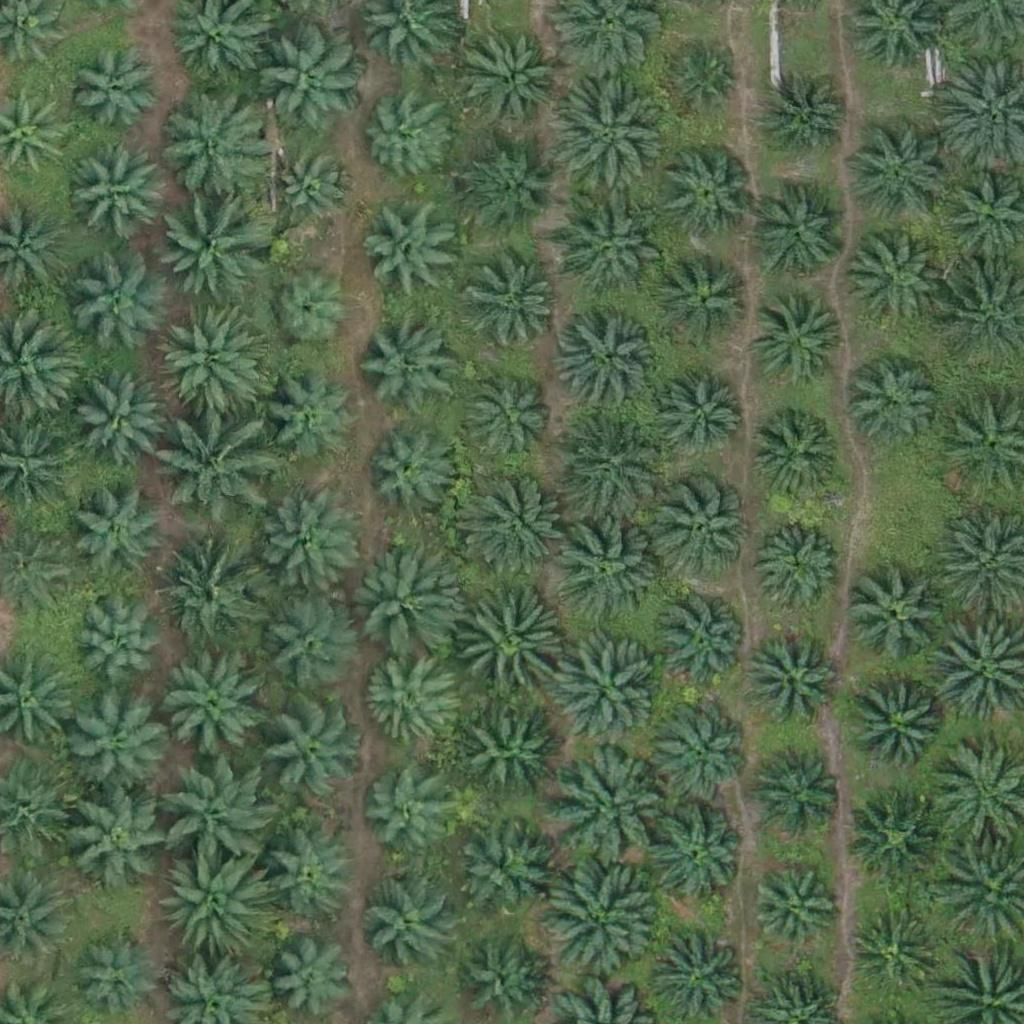Kelapa_Sawit: (456, 465, 569, 579), (548, 84, 661, 198), (550, 513, 663, 627), (156, 191, 269, 304), (153, 304, 266, 417), (553, 407, 666, 520), (542, 863, 655, 976), (555, 747, 668, 860), (546, 633, 659, 746), (160, 756, 273, 869), (160, 414, 272, 528), (150, 88, 262, 201), (450, 592, 562, 705), (443, 815, 555, 928), (157, 849, 269, 962), (65, 145, 165, 246), (70, 254, 170, 355), (74, 371, 174, 472), (67, 483, 167, 584), (158, 547, 258, 648), (253, 495, 353, 596), (346, 546, 446, 647), (459, 25, 559, 126), (557, 204, 657, 305), (559, 313, 659, 414), (657, 248, 757, 349), (746, 293, 846, 394), (846, 564, 946, 665), (841, 357, 941, 458), (844, 232, 944, 333), (852, 124, 952, 225), (646, 801, 746, 902), (464, 707, 564, 808), (356, 875, 456, 976), (362, 764, 462, 865), (262, 703, 362, 804), (259, 825, 359, 926), (161, 651, 261, 752), (68, 695, 168, 796), (262, 27, 362, 127), (360, 192, 460, 292), (358, 308, 458, 408), (253, 593, 353, 693), (456, 364, 556, 464), (463, 251, 563, 351), (462, 143, 562, 243), (657, 475, 757, 575), (656, 143, 756, 243), (757, 70, 857, 170), (750, 186, 850, 286), (750, 407, 850, 507), (649, 596, 749, 696), (848, 674, 948, 774), (848, 788, 948, 888), (751, 739, 851, 839), (743, 630, 843, 730), (652, 703, 752, 803), (73, 794, 173, 894), (265, 271, 353, 359), (269, 147, 357, 235), (358, 92, 446, 180), (753, 517, 841, 605), (847, 907, 935, 995), (749, 869, 837, 957), (364, 659, 452, 747), (263, 376, 350, 465), (70, 50, 157, 138), (76, 607, 163, 695), (366, 425, 453, 513), (653, 373, 740, 461), (266, 932, 353, 1020), (665, 46, 740, 122)
